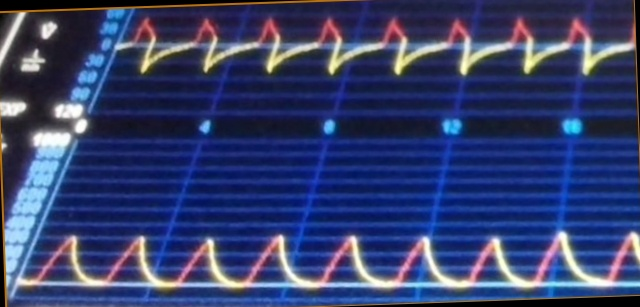Normal Flow: (113, 11, 634, 92)
Normal Volume: (20, 217, 640, 294)
